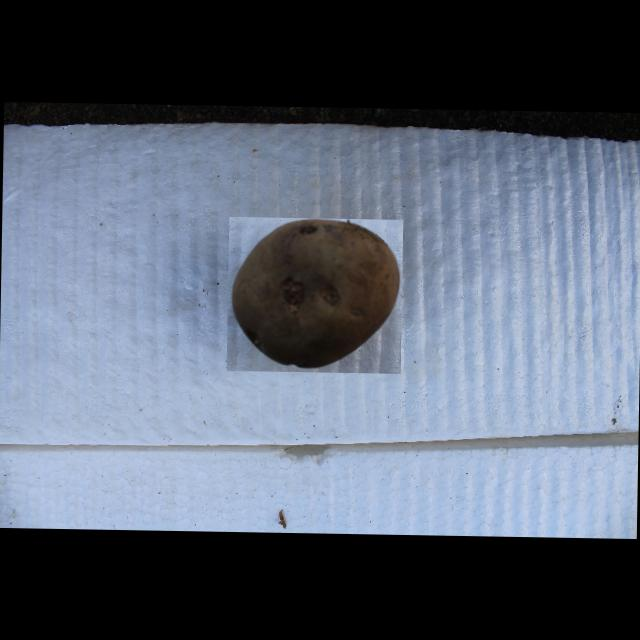Diseased-fungal potato: (226, 216, 403, 374)
